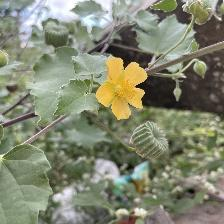indian mallow: (94, 54, 150, 124)
